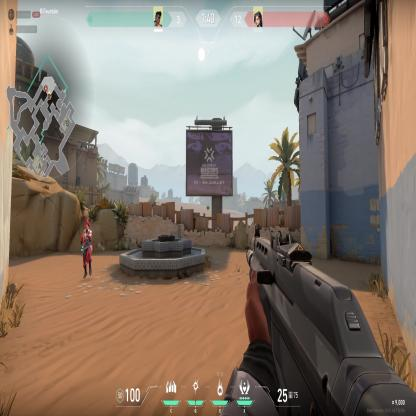enemy: (80, 215, 94, 280), (80, 214, 93, 279)
